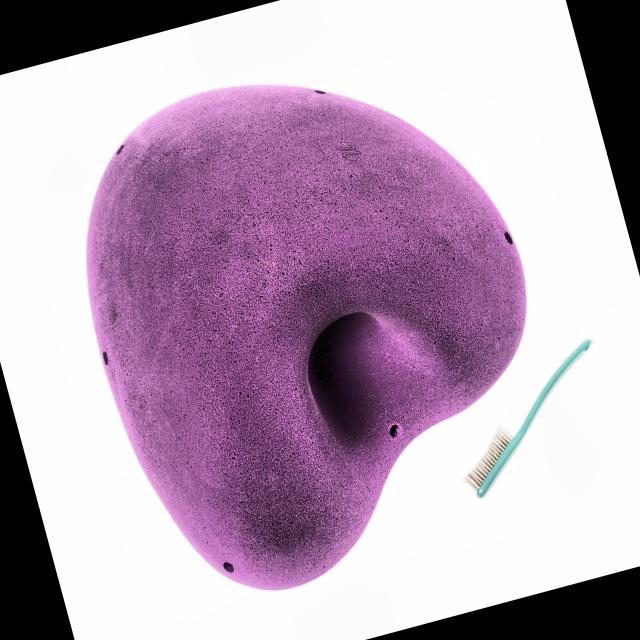Hold: (62, 75, 539, 597)
